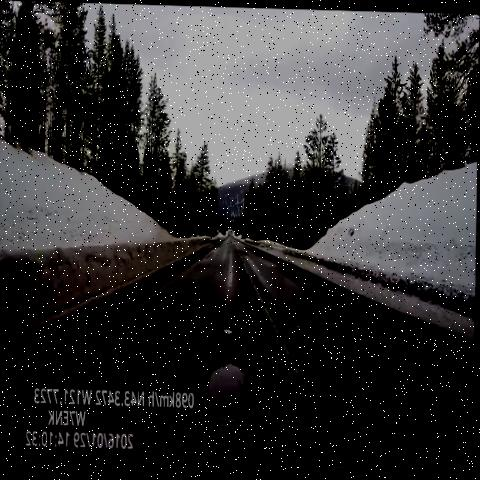pothole: (207, 352, 254, 423), (218, 312, 238, 341)
